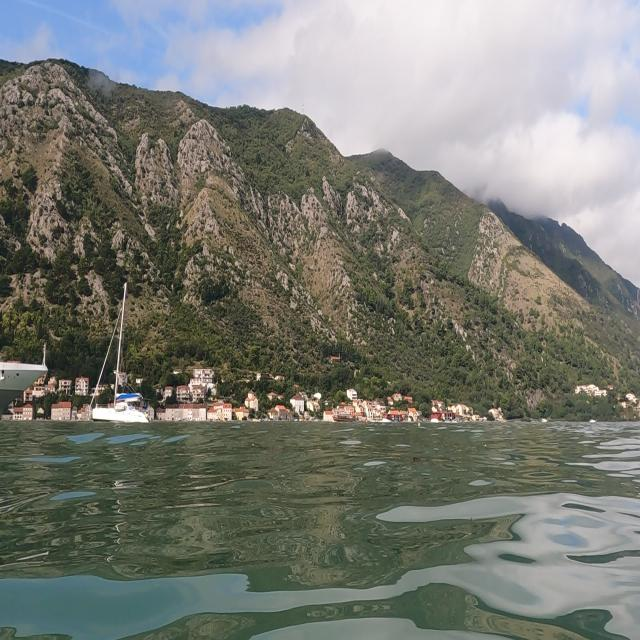boat: (89, 278, 151, 427)
